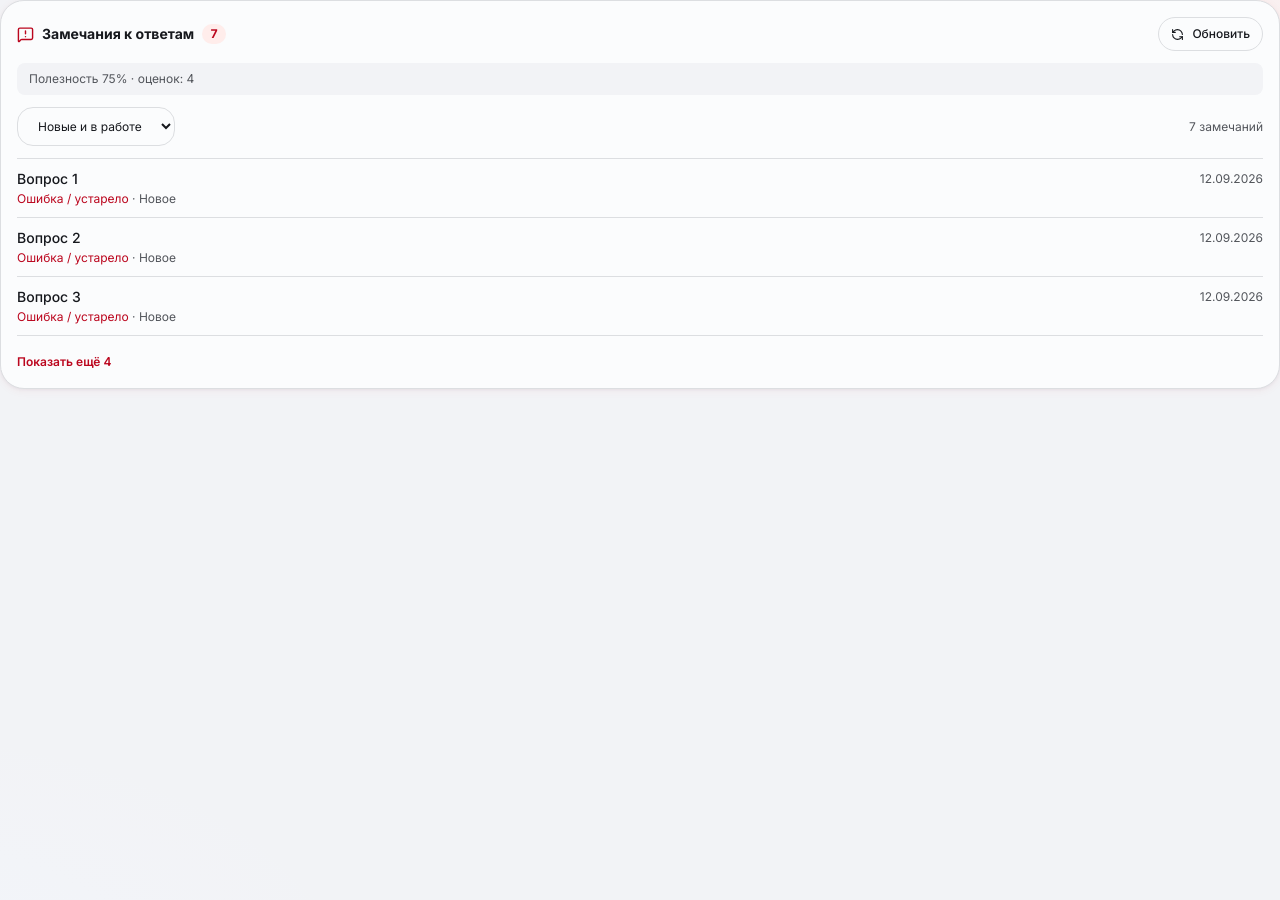
Scenario: Очередь замечаний › сначала показывает только три замечания
Expected: the button "Вопрос 3 Ошибка / устарело · Новое 12.09.2026" is shown, [17,277,1263,335]
Expected: the button "Вопрос 4" is not shown
Click the button "Показать ещё 4" at (64, 362), box [17,354,112,370]
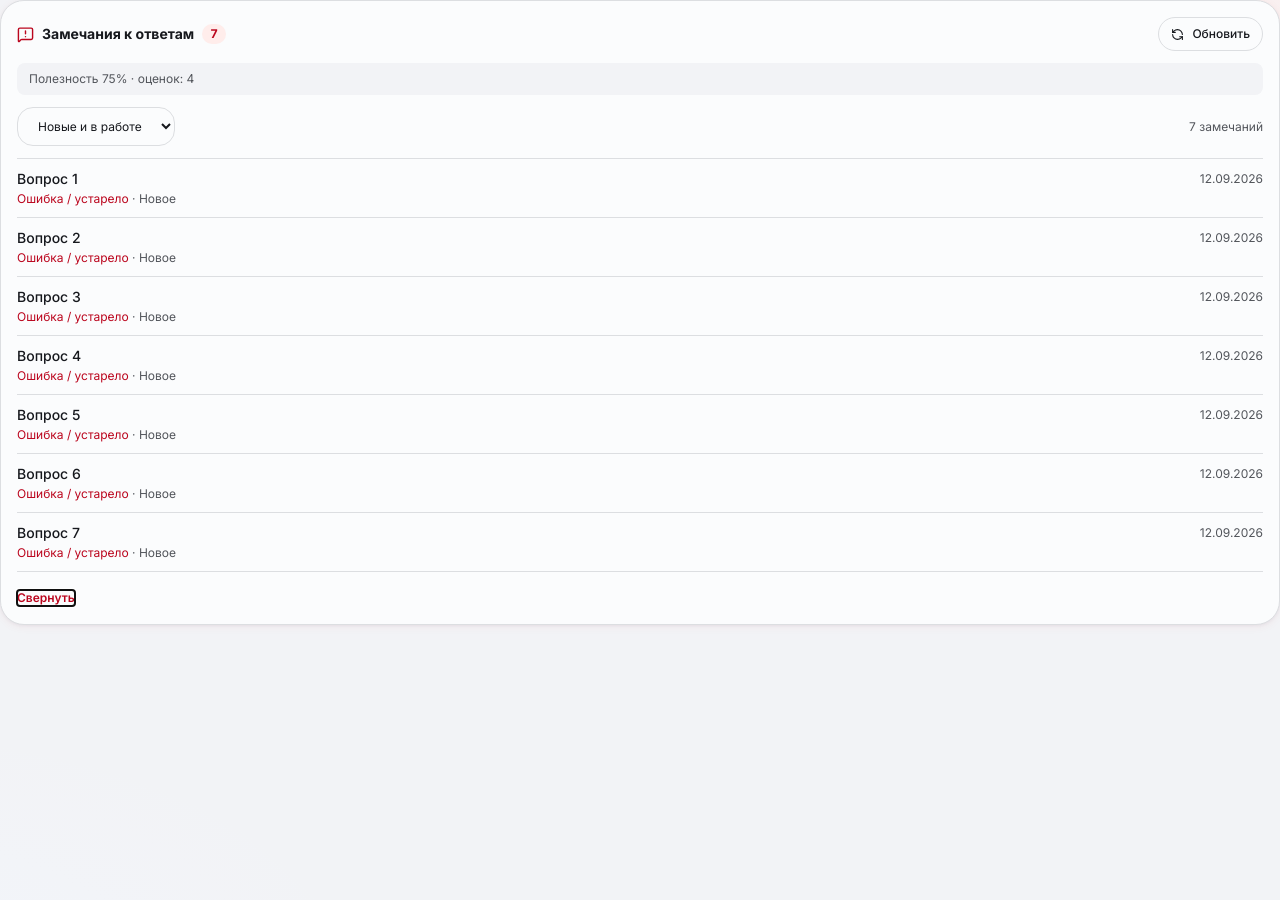
Result: the button "Вопрос 7 Ошибка / устарело · Новое 12.09.2026" is shown at [17,513,1263,571]
